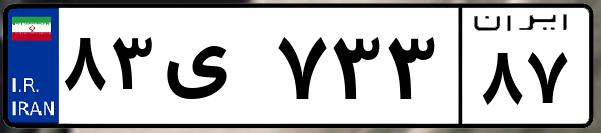3: (385, 28, 445, 110), (330, 28, 385, 110), (110, 28, 158, 98)
7: (270, 28, 330, 110), (525, 38, 570, 115)
8: (57, 26, 110, 100), (475, 38, 525, 113)
ی: (158, 20, 270, 120)
